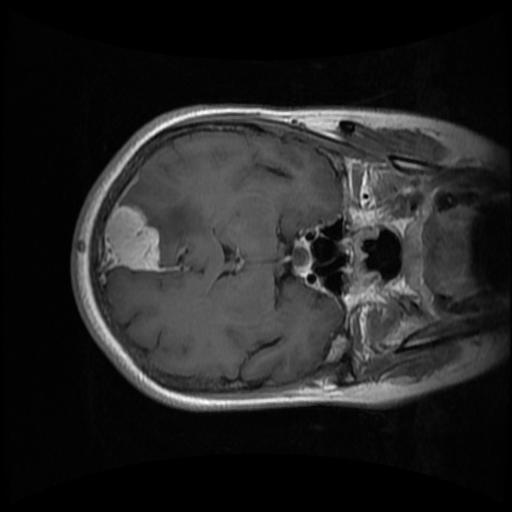meningioma: (102, 204, 159, 272)
